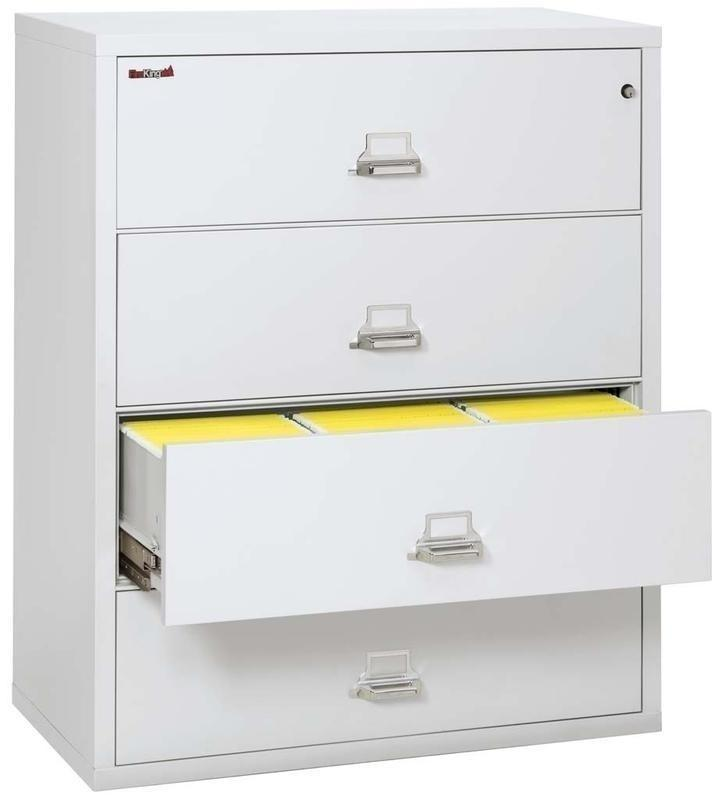Filing Cabinet: (90, 24, 711, 794)
